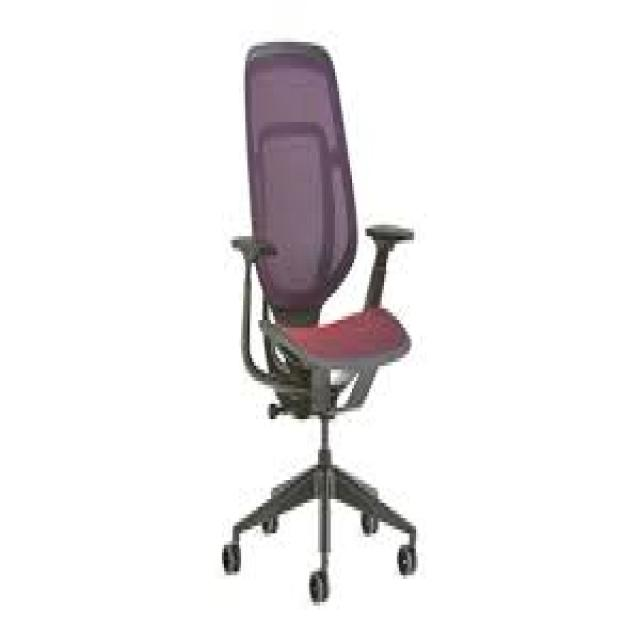chair: (171, 29, 431, 640)
